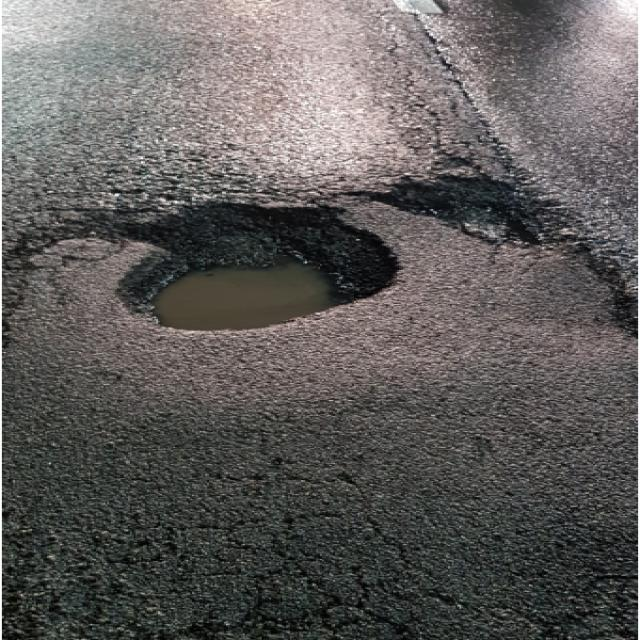pothole: (90, 188, 413, 341), (357, 150, 585, 252)
